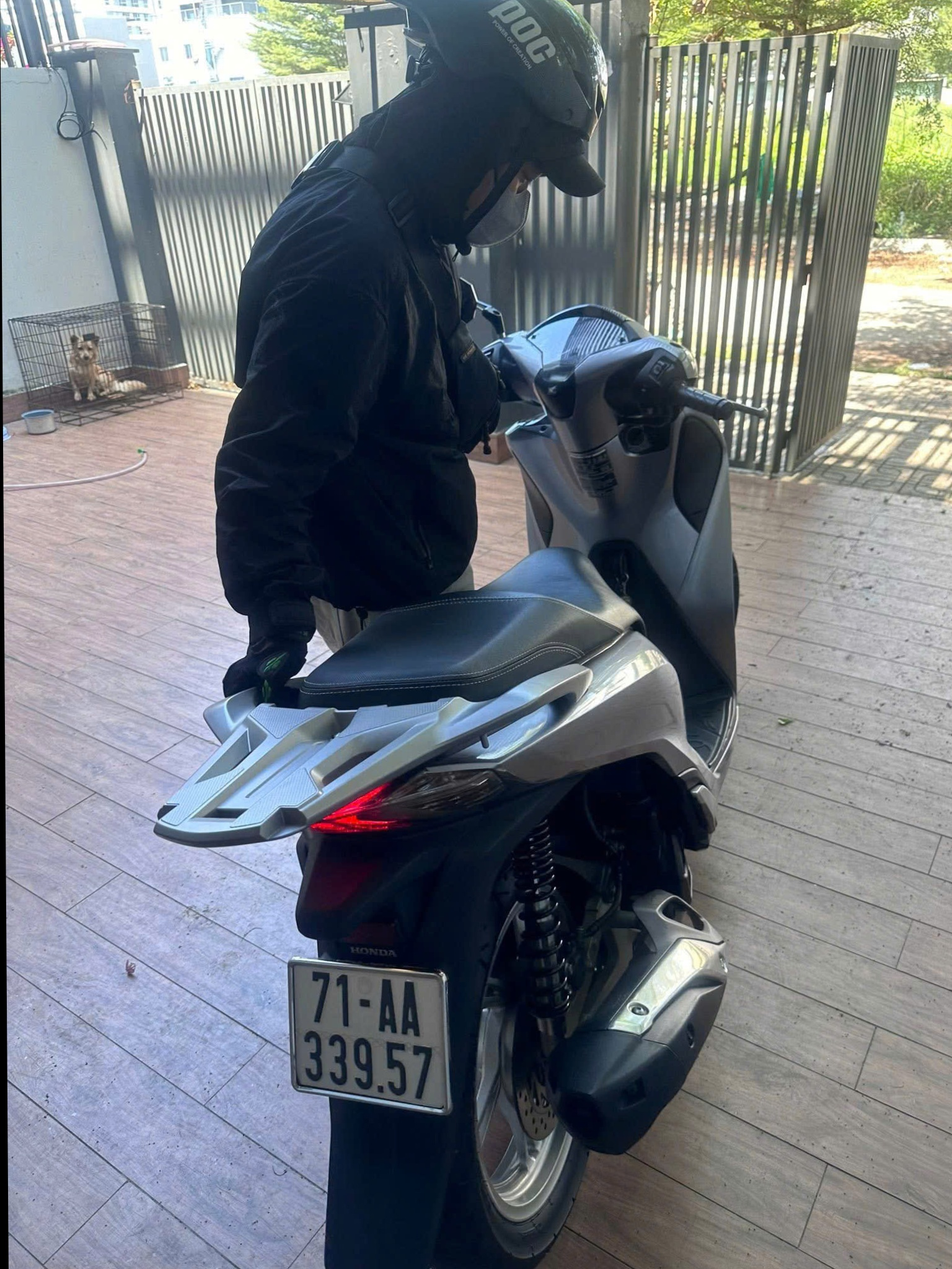Bien-so: (252, 915, 410, 1063)
